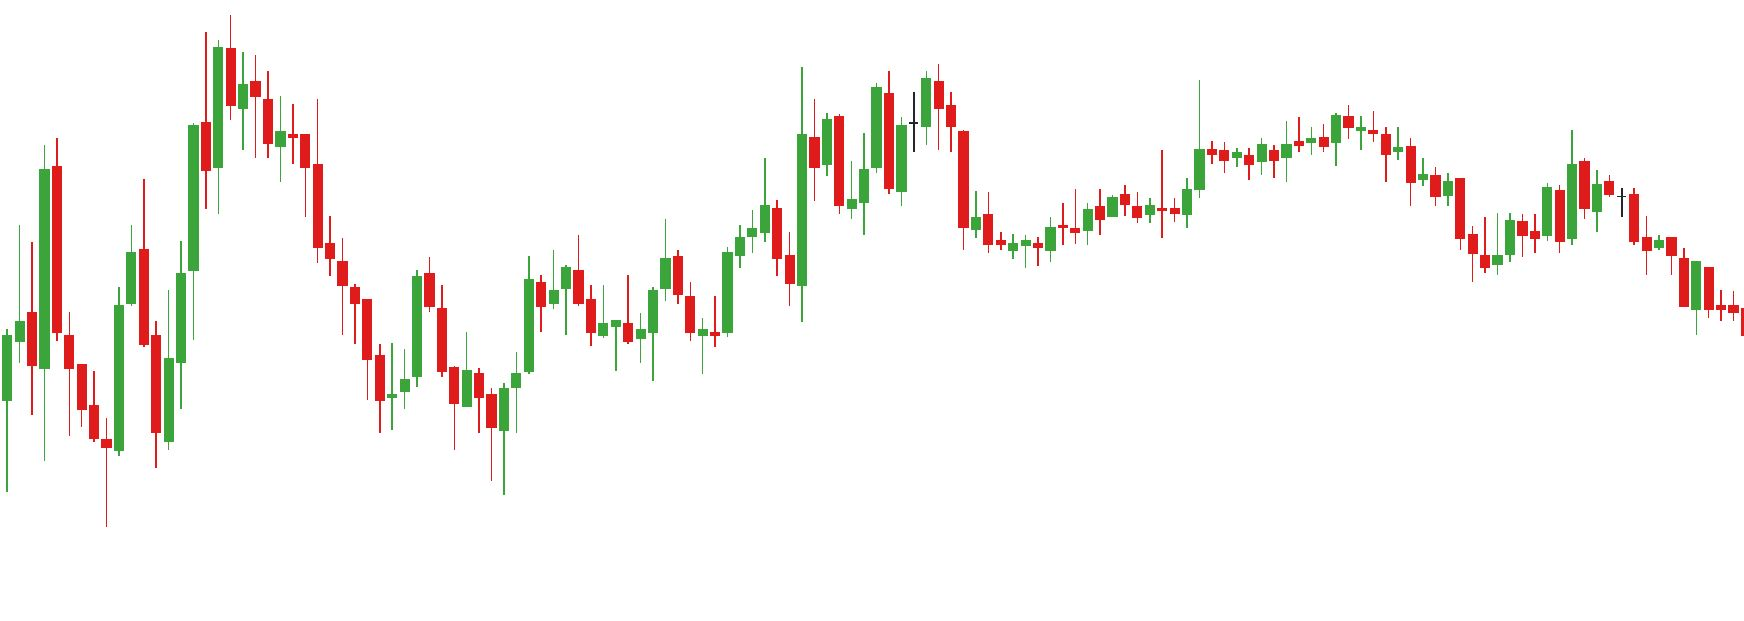buy: (375, 321, 472, 465)
sell: (37, 32, 214, 272)
